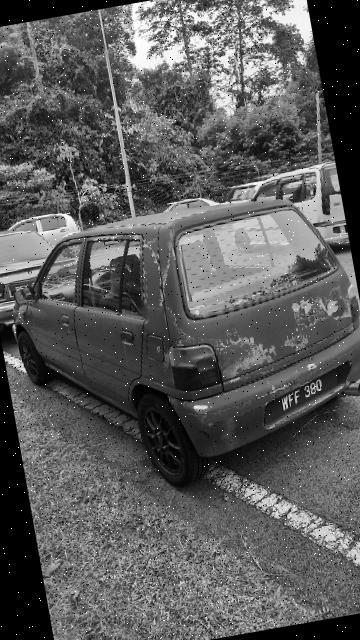License_Plate: (256, 365, 353, 427)
car: (1, 179, 360, 505)
